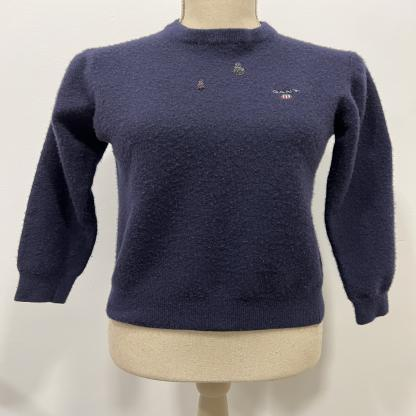stain: (229, 59, 249, 79), (195, 77, 208, 93)
